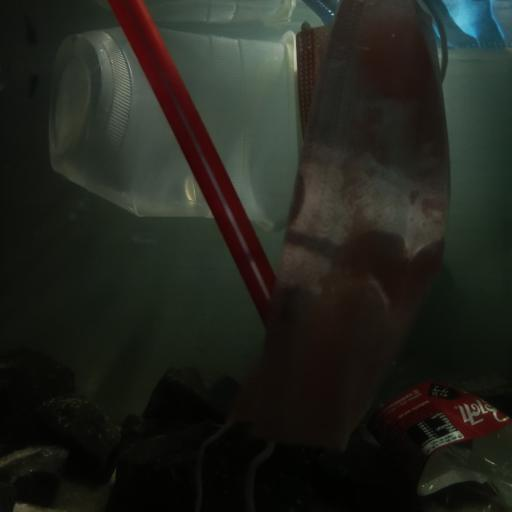mask: (221, 0, 453, 456), (297, 0, 512, 53)
plastic_bottle: (367, 355, 512, 512)
plastic_cup: (56, 25, 302, 221)
plastic_straw: (109, 0, 271, 309)
